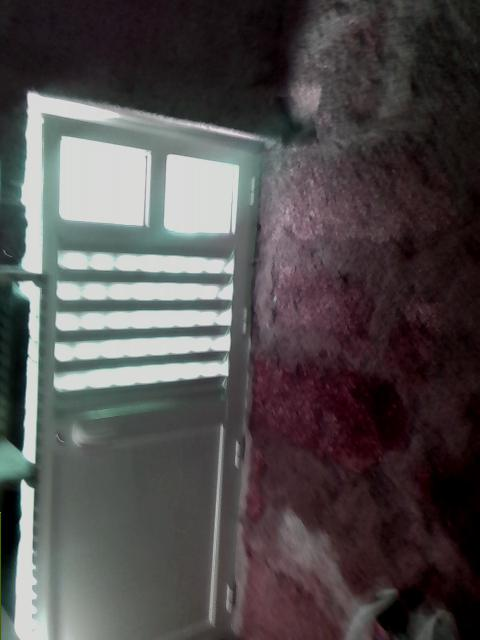closed_door: (33, 111, 266, 639)
